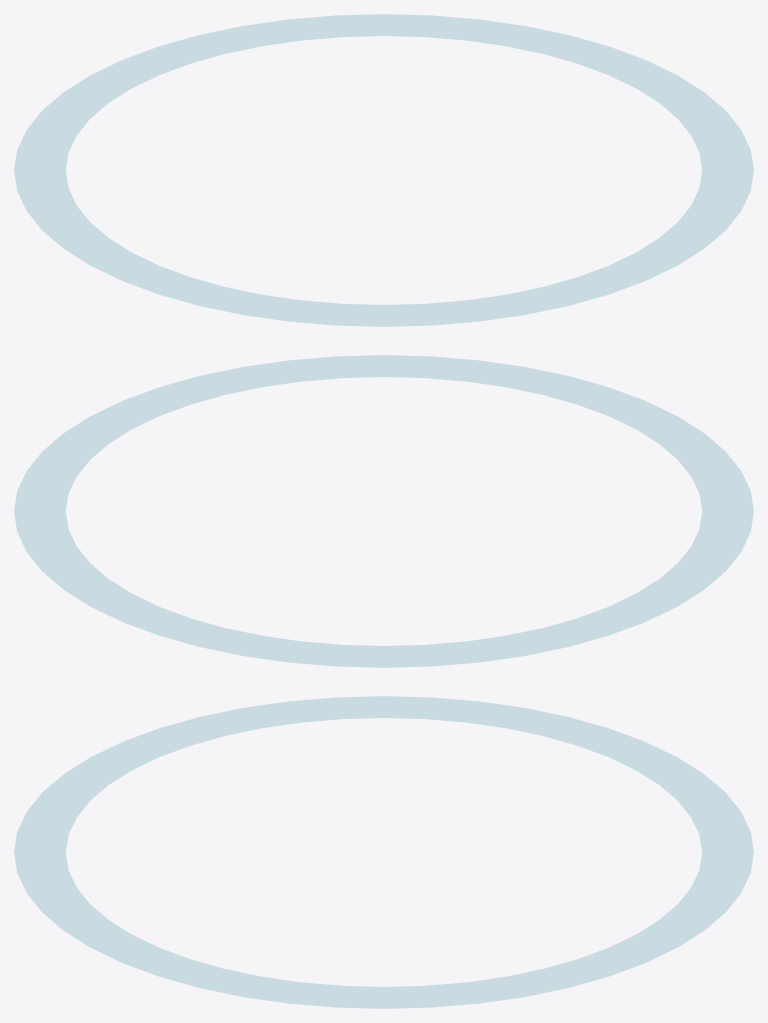
File: frost_blast.glb
The picture shows the model from 3 angles, top to bottom: view 1: azimuth 30°, elevation 25°; view 2: azimuth 150°, elevation 25°; view 3: azimuth 270°, elevation 25°; orthographic projection.
Visible parts, largest first — view 1: frost_blast; view 2: frost_blast; view 3: frost_blast.
Boxes of the visible parts, x1=… form: frost_blast: x1=14, y1=14, x2=753, y2=326; frost_blast: x1=14, y1=355, x2=753, y2=667; frost_blast: x1=14, y1=696, x2=753, y2=1008.
Size of the model in its own units: 2 by 0 by 2.
Materials: 1 (1 with a texture image).
